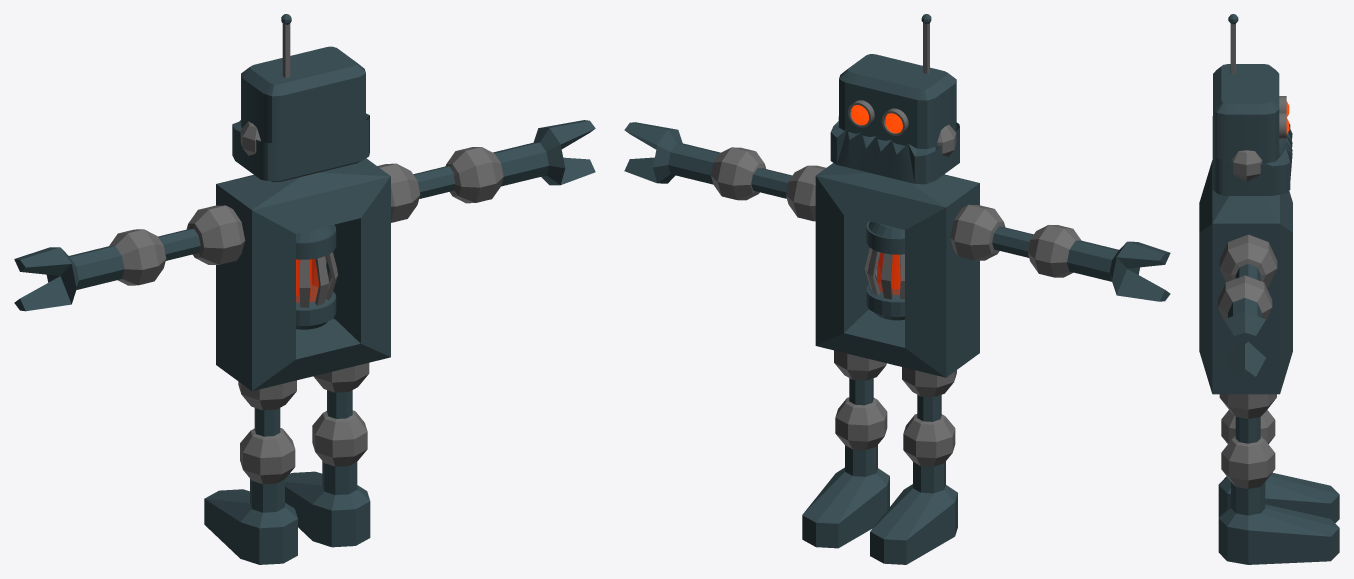
The model's file is MediumRobot.fbx.
3 views of the same model, side by side, from view 1: azimuth 30°, elevation 25°; view 2: azimuth 150°, elevation 25°; view 3: azimuth 270°, elevation 25° (orthographic). The views are drawn at different scales.
Visible parts, largest first — view 1: pCube1, pasted__polySurface13 (×2), pasted__polySurface7, pasted__polySurface15, pasted__pCylinder1, pasted__polySurface3 (×2), pasted__polySurface9, pasted__polySurface14; view 2: pCube1, pasted__polySurface13 (×2), pasted__polySurface7, pasted__polySurface15, pasted__pCylinder1, pasted__polySurface3 (×2), pasted__polySurface9, pasted__polySurface14; view 3: pCube1, pasted__polySurface13 (×2), pasted__polySurface15, pasted__polySurface14, pasted__polySurface3, pSphere3, pCylinder2.
Part boxes in pixels (<box>): pCube1: <box>216,23,390,391</box>; pasted__polySurface13 (×2): <box>204,410,370,564</box>; pasted__polySurface7: <box>14,229,166,311</box>; pasted__polySurface15: <box>446,120,595,203</box>; pasted__pCylinder1: <box>296,224,337,329</box>; pasted__polySurface3 (×2): <box>238,363,369,436</box>; pasted__polySurface9: <box>158,205,245,264</box>; pasted__polySurface14: <box>377,163,455,222</box>; pCube1: <box>815,23,979,377</box>; pasted__polySurface13 (×2): <box>802,397,957,564</box>; pasted__polySurface7: <box>1027,225,1170,301</box>; pasted__polySurface15: <box>624,122,765,200</box>; pasted__pCylinder1: <box>864,221,904,320</box>; pasted__polySurface3 (×2): <box>834,350,956,421</box>; pasted__polySurface9: <box>950,204,1033,260</box>; pasted__polySurface14: <box>751,165,825,221</box>; pCube1: <box>1199,23,1292,394</box>; pasted__polySurface13 (×2): <box>1218,410,1339,564</box>; pasted__polySurface15: <box>1215,275,1274,380</box>; pasted__polySurface14: <box>1219,234,1277,287</box>; pasted__polySurface3: <box>1219,394,1276,443</box>; pSphere3: <box>1231,150,1262,181</box>; pCylinder2: <box>1279,112,1286,139</box>.
Bounding box in the file's own units: 21.33 × 19.34 × 4.83.
